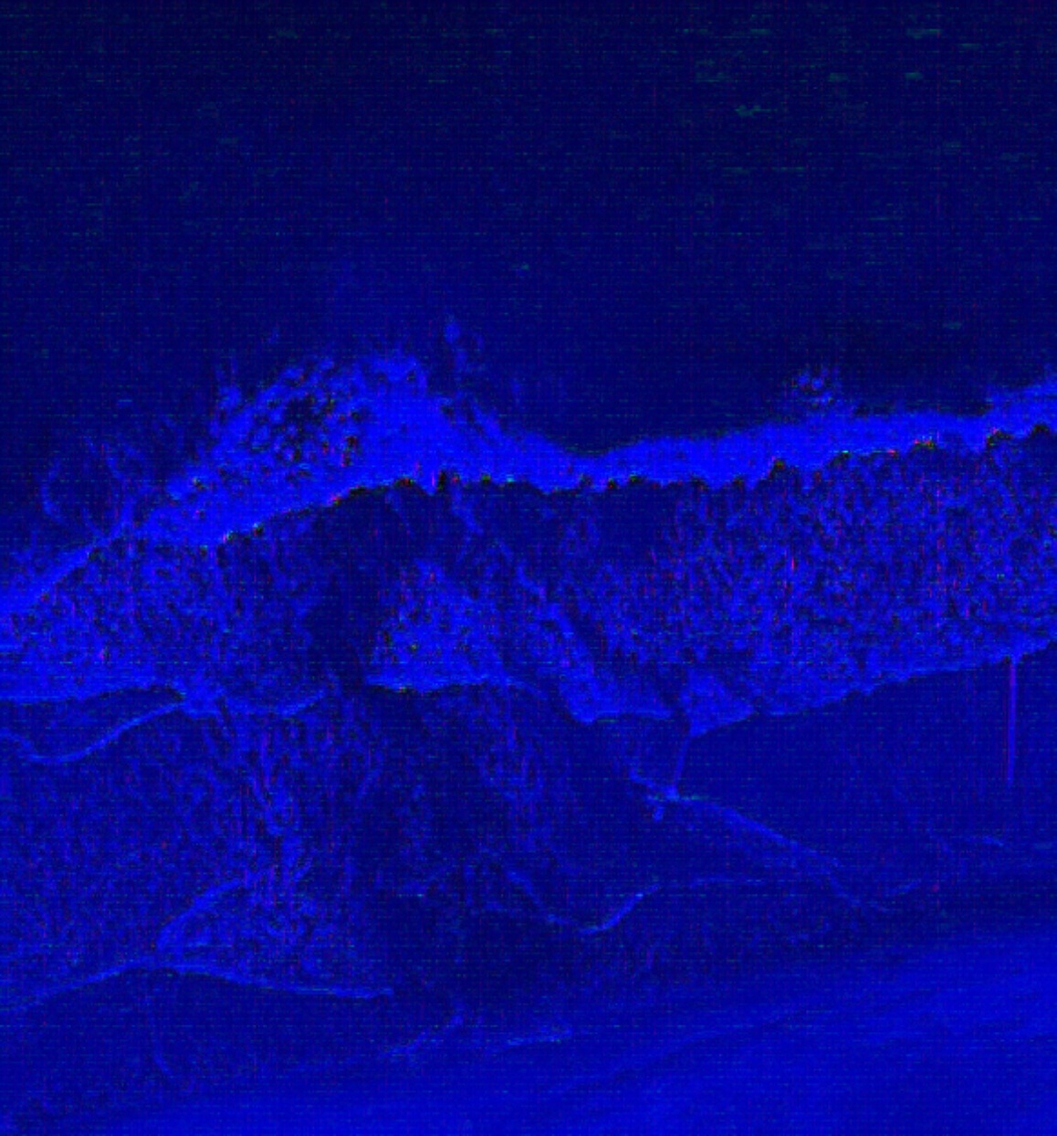rip_current: (165, 353, 623, 975)
